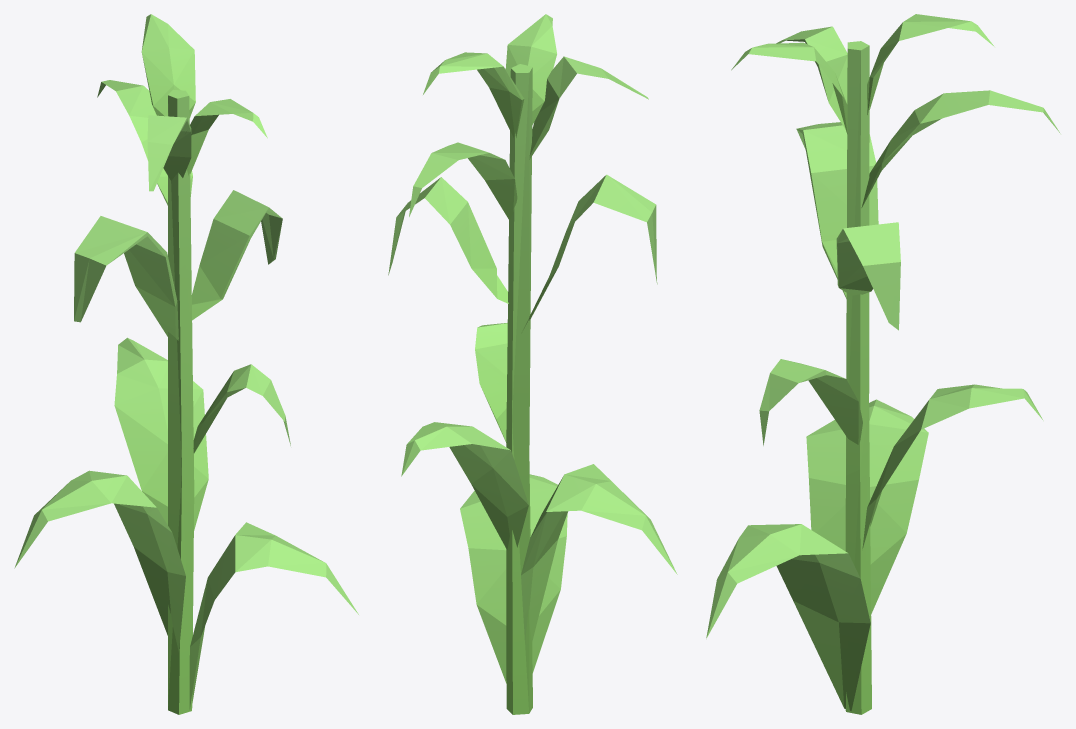
The model's file is CornStage2.fbx.
3 renders of one model, left to right at view 1: azimuth 30°, elevation 25°; view 2: azimuth 150°, elevation 25°; view 3: azimuth 270°, elevation 25°, orthographic. The views are drawn at different scales.
Visible parts, largest first — view 1: CornPlant_03; view 2: CornPlant_03; view 3: CornPlant_03.
Part boxes in pixels (bbox=[...]): CornPlant_03: bbox=[14, 14, 358, 714]; CornPlant_03: bbox=[388, 14, 677, 714]; CornPlant_03: bbox=[706, 14, 1060, 714].
Bounding box in the file's own units: 53.34 × 123 × 56.8.
